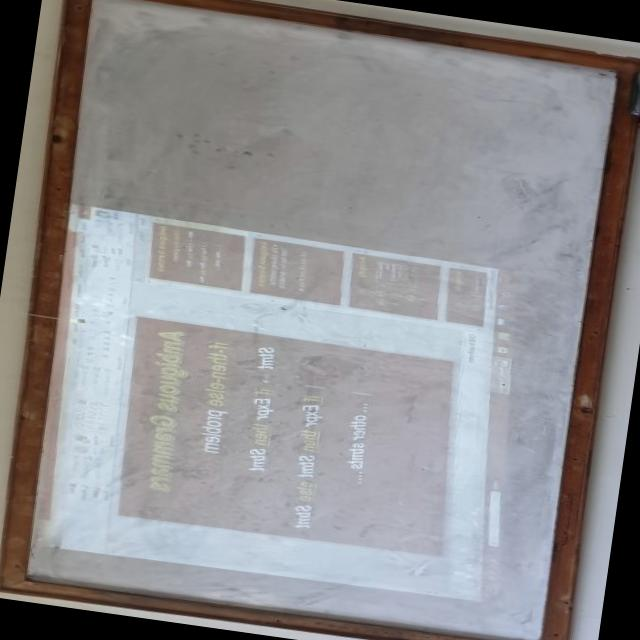Slide: (28, 200, 530, 604)
White-board: (11, 0, 637, 640)
